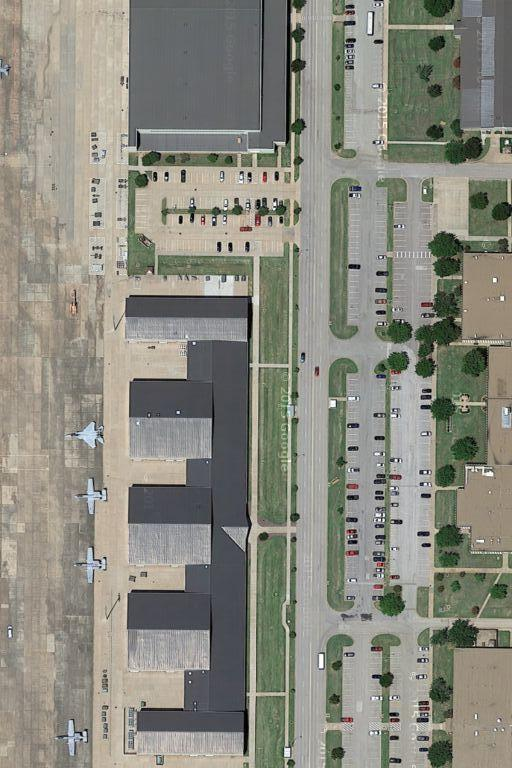A-10: (54, 712, 93, 762), (73, 543, 111, 590), (73, 474, 110, 517)
F-15: (67, 417, 105, 454)
